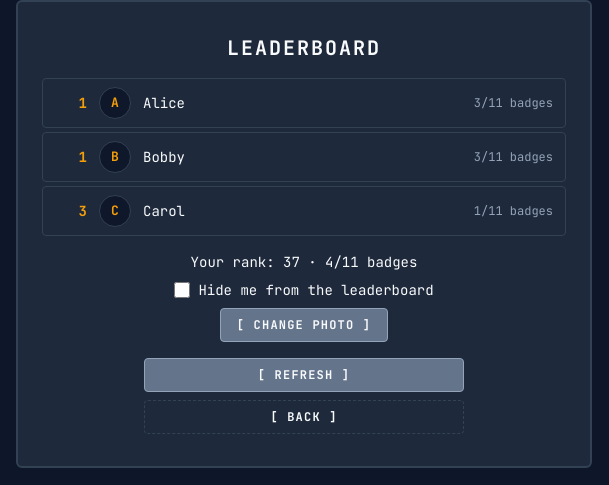
Test: Leaderboard › outside the list you see your rank; with no badges you are invited to earn one
This screenshot has width=609, height=485.
Expected: the text "Your rank: 37 · 4/11 badges" is shown, x1=191 y1=252 x2=417 y2=272
Click the button "[ Refresh ]" at coordinates (304, 375), box x1=144 y1=358 x2=464 y2=392
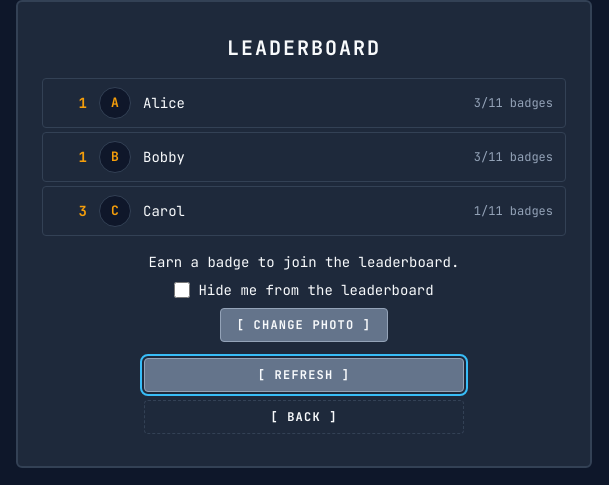
Expected: the text "Earn a badge to join the leaderboard." is shown, x1=149 y1=252 x2=459 y2=272
